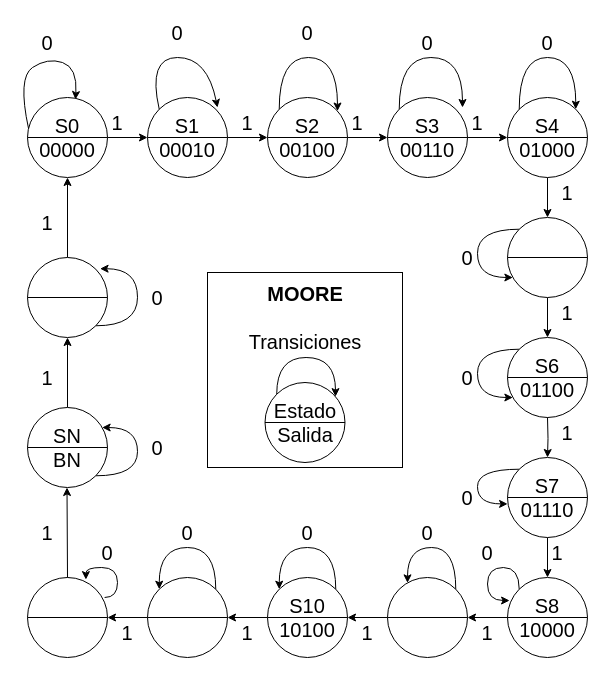
The diagram is 614 pixels wide and 675 high, and some of its shapes have lost their labels. Each missing label, with the box of its shape:
S11 10110: (146, 576, 228, 658)
S12 11000: (26, 576, 108, 658)
S31 11111: (26, 256, 108, 338)
S5 01010: (506, 216, 588, 298)
S9 10010: (386, 576, 468, 658)
